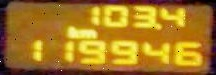-: (153, 21, 161, 29)
0: (101, 4, 128, 27)
1: (61, 40, 75, 63), (86, 4, 100, 26), (29, 38, 42, 61)
3: (130, 4, 156, 27)
4: (140, 41, 170, 64), (157, 6, 186, 27)
6: (173, 40, 201, 65)
9: (76, 39, 105, 64), (109, 39, 137, 64)
X: (76, 27, 97, 38), (63, 25, 76, 39)
